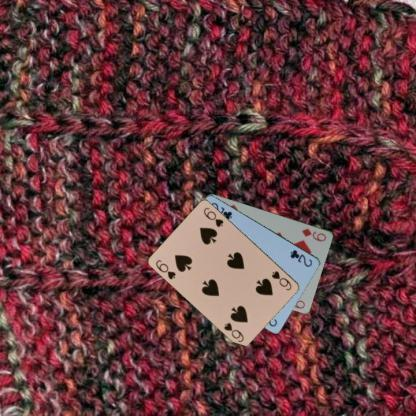2c: (288, 247, 314, 268)
6s: (269, 268, 294, 292), (154, 257, 177, 281)
9d: (299, 226, 328, 243)
